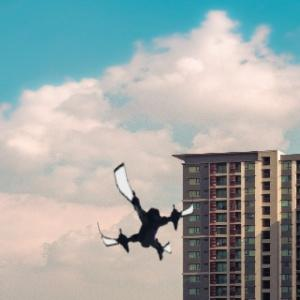drone: (92, 159, 200, 267)
